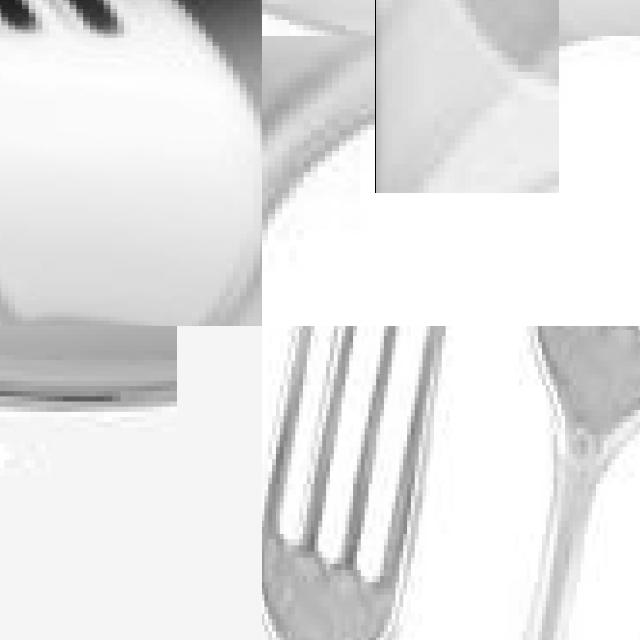forks: (0, 0, 262, 326)
spoons: (296, 0, 637, 114), (0, 326, 160, 459)
